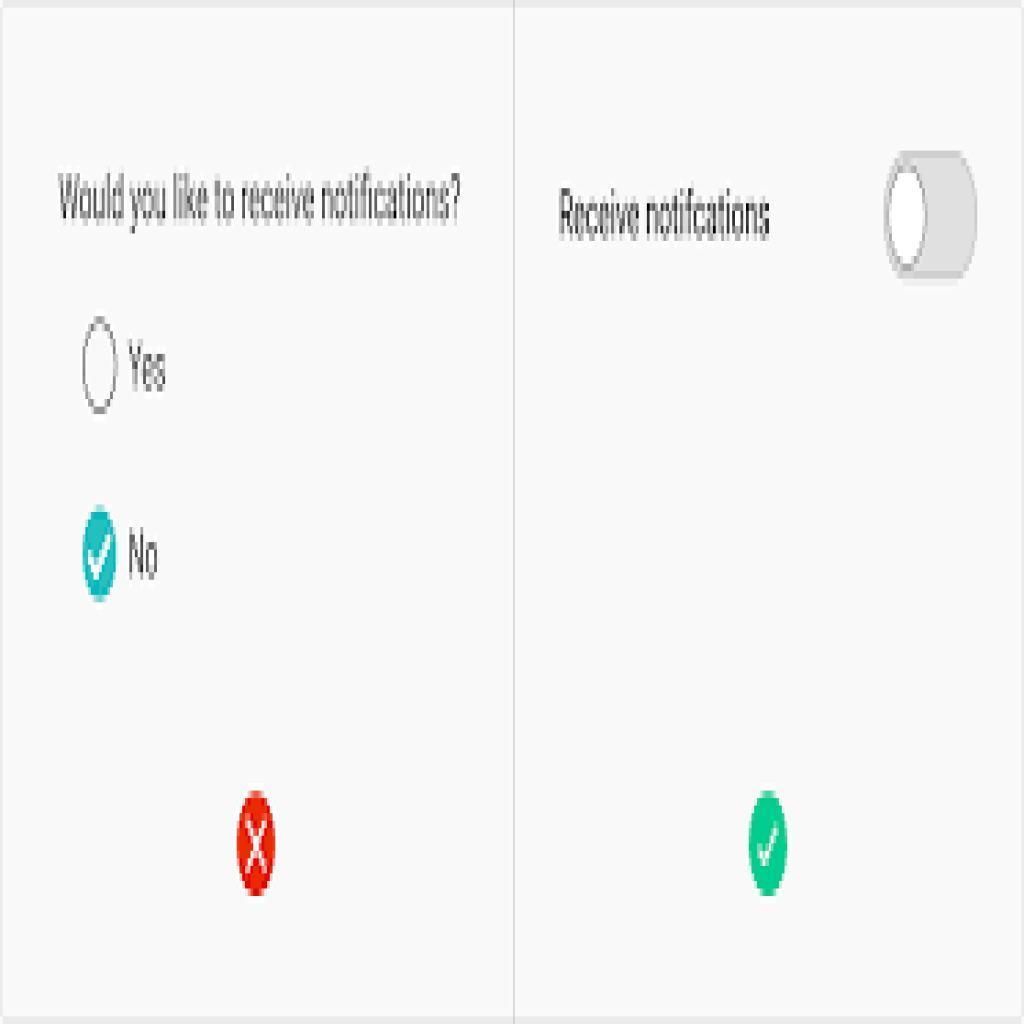label: (56, 172, 469, 238), (556, 180, 780, 247), (124, 523, 169, 589), (130, 340, 173, 396)
radio: (82, 505, 123, 606), (81, 317, 121, 416)
switch: (885, 151, 980, 281)
